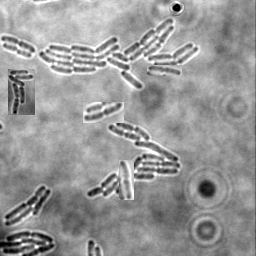Dividing: (83, 102, 124, 123), (1, 34, 37, 52), (119, 160, 134, 200), (3, 41, 33, 57), (147, 65, 182, 76)
Microcolony: (40, 18, 199, 89), (87, 120, 181, 197), (5, 184, 52, 226), (1, 230, 56, 255), (8, 69, 35, 115)
